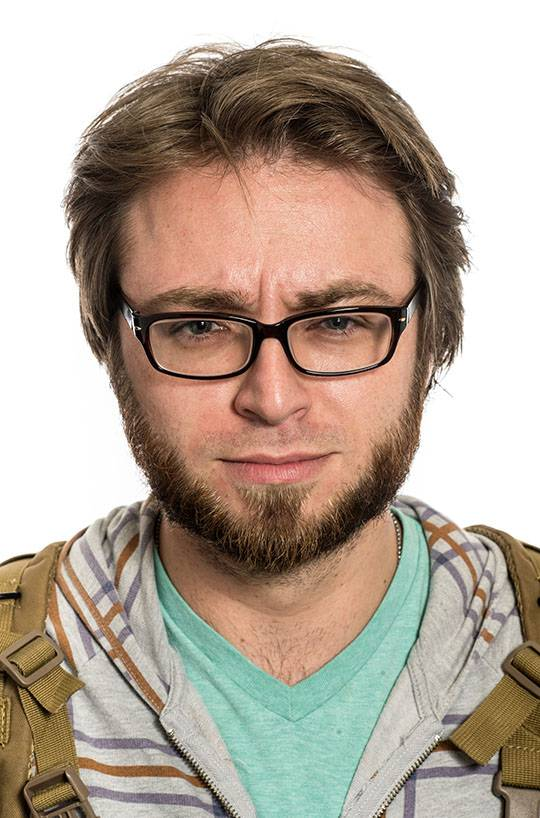beard: (114, 398, 432, 580)
glasses: (121, 293, 420, 388)
